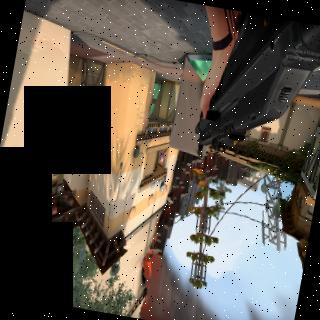ENEMY-BODY: (158, 148, 167, 166)
ENEMY-HEAD: (160, 161, 162, 165)
